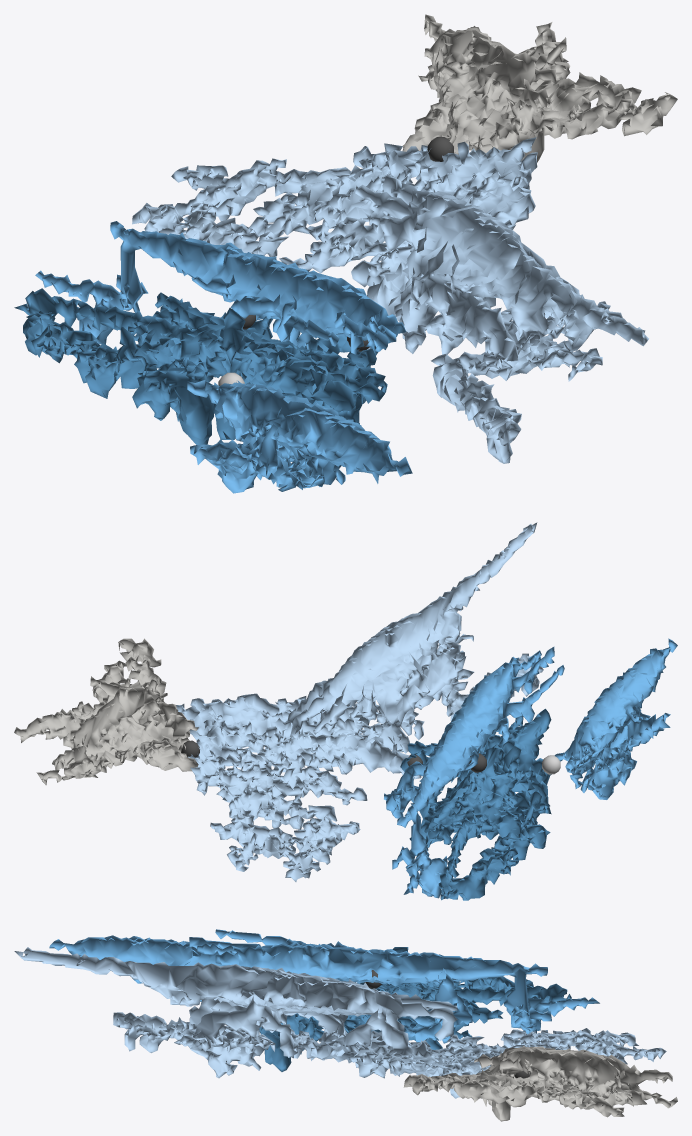
Rendered from sample_3_2_group_1.glb.
The picture shows the model from 3 angles, top to bottom: view 1: azimuth 30°, elevation 25°; view 2: azimuth 150°, elevation 25°; view 3: azimuth 270°, elevation 25°; orthographic projection. The views are drawn at different scales.
Parts seen in each view (by area): view 1: osteocyte_63_elongated, osteocyte_29_elongated, osteocyte_57_untyped, osteocyte_47_elongated, osteocyte_35_elongated; view 2: osteocyte_63_elongated, osteocyte_29_elongated, osteocyte_57_untyped, osteocyte_47_elongated, osteocyte_35_elongated; view 3: osteocyte_63_elongated, osteocyte_47_elongated, osteocyte_57_untyped, osteocyte_29_elongated, osteocyte_35_elongated.
Part boxes in pixels (box(x1,y1,x2,y2)): osteocyte_63_elongated: box(132, 137, 648, 463); osteocyte_29_elongated: box(14, 288, 387, 453); osteocyte_57_untyped: box(402, 14, 677, 162); osteocyte_47_elongated: box(35, 221, 405, 354); osteocyte_35_elongated: box(187, 380, 412, 493); osteocyte_63_elongated: box(176, 522, 543, 881); osteocyte_29_elongated: box(400, 708, 551, 900); osteocyte_57_untyped: box(14, 638, 198, 785); osteocyte_47_elongated: box(384, 646, 564, 898); osteocyte_35_elongated: box(554, 638, 677, 799); osteocyte_63_elongated: box(14, 947, 666, 1098); osteocyte_47_elongated: box(189, 929, 599, 1043); osteocyte_57_untyped: box(403, 1046, 677, 1121); osteocyte_29_elongated: box(259, 947, 571, 1071); osteocyte_35_elongated: box(49, 935, 226, 1001).
Bounding box in the file's own units: 60.69 × 22.72 × 78.38.
